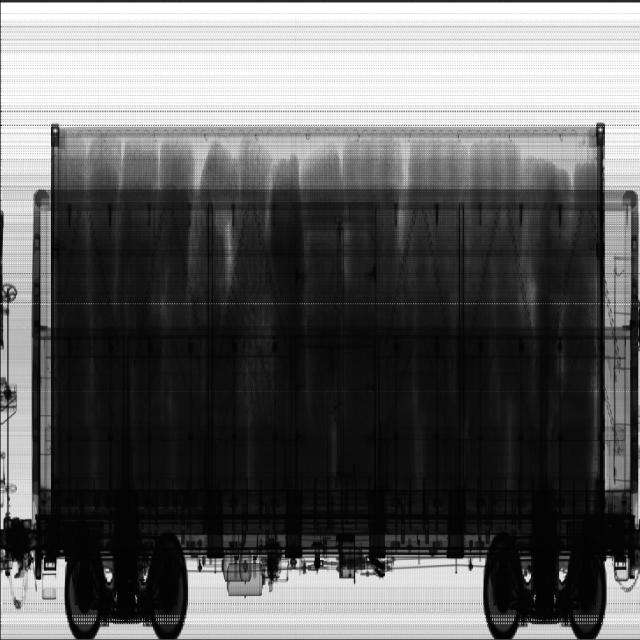clothes: (53, 142, 600, 508)
